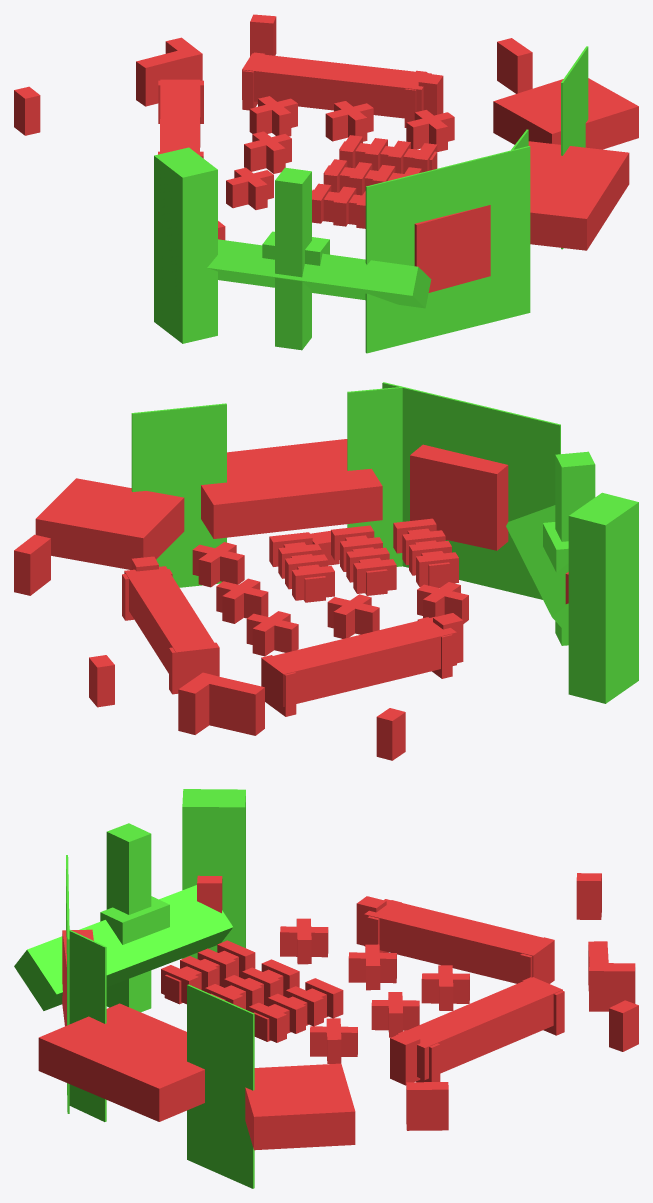
Rendered from colisiones_update.gltf.
3 views of the same model, one above another, from view 1: azimuth 30°, elevation 25°; view 2: azimuth 150°, elevation 25°; view 3: azimuth 270°, elevation 25° (orthographic). The views are drawn at different scales.
Visible parts, largest first — view 1: colisión (×34); view 2: colisión (×45); view 3: colisión (×43).
Part boxes in pixels (x1,y1,x2,y2): colisión (×34): [14, 14, 638, 353]; colisión (×45): [14, 382, 638, 760]; colisión (×43): [14, 789, 638, 1188].
Size of the model in its own units: 23.81 by 7.72 by 25.01.
